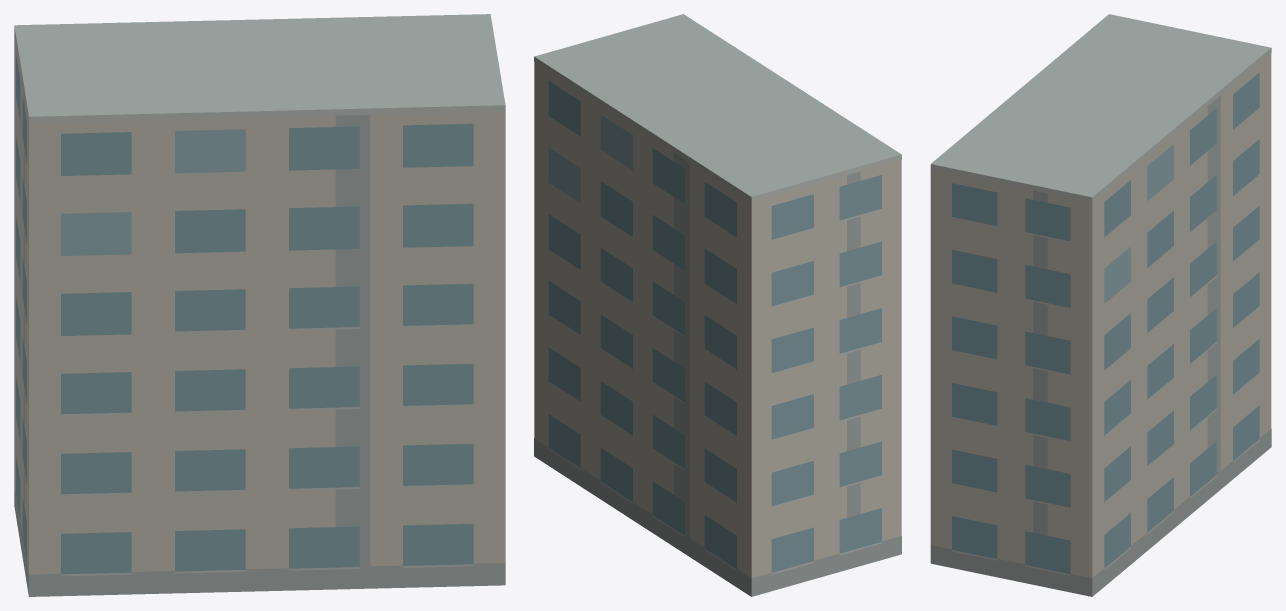
The model's file is survey-upis-32937920.glb.
3 renders of one model, left to right at view 1: azimuth 30°, elevation 25°; view 2: azimuth 150°, elevation 25°; view 3: azimuth 270°, elevation 25°, orthographic. The views are drawn at different scales.
Parts seen in each view (by area): view 1: survey-upis-32937920.tmp; view 2: survey-upis-32937920.tmp; view 3: survey-upis-32937920.tmp.
Boxes of the visible parts, x1,y1,x2,y2 form: survey-upis-32937920.tmp: [14, 14, 505, 596]; survey-upis-32937920.tmp: [534, 14, 901, 596]; survey-upis-32937920.tmp: [930, 14, 1271, 596].
Bounding box in the file's own units: 18.02 × 18.3 × 14.16.
